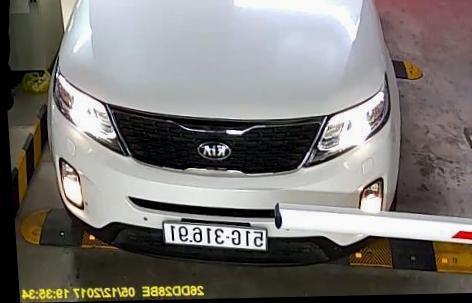License_Plate: (153, 220, 275, 254)
